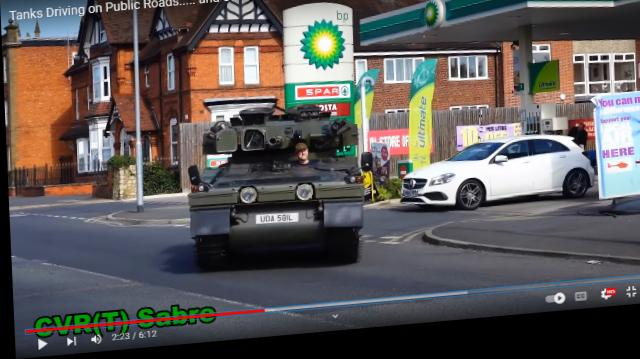other: (294, 145, 310, 173)
tank: (189, 107, 359, 271)
